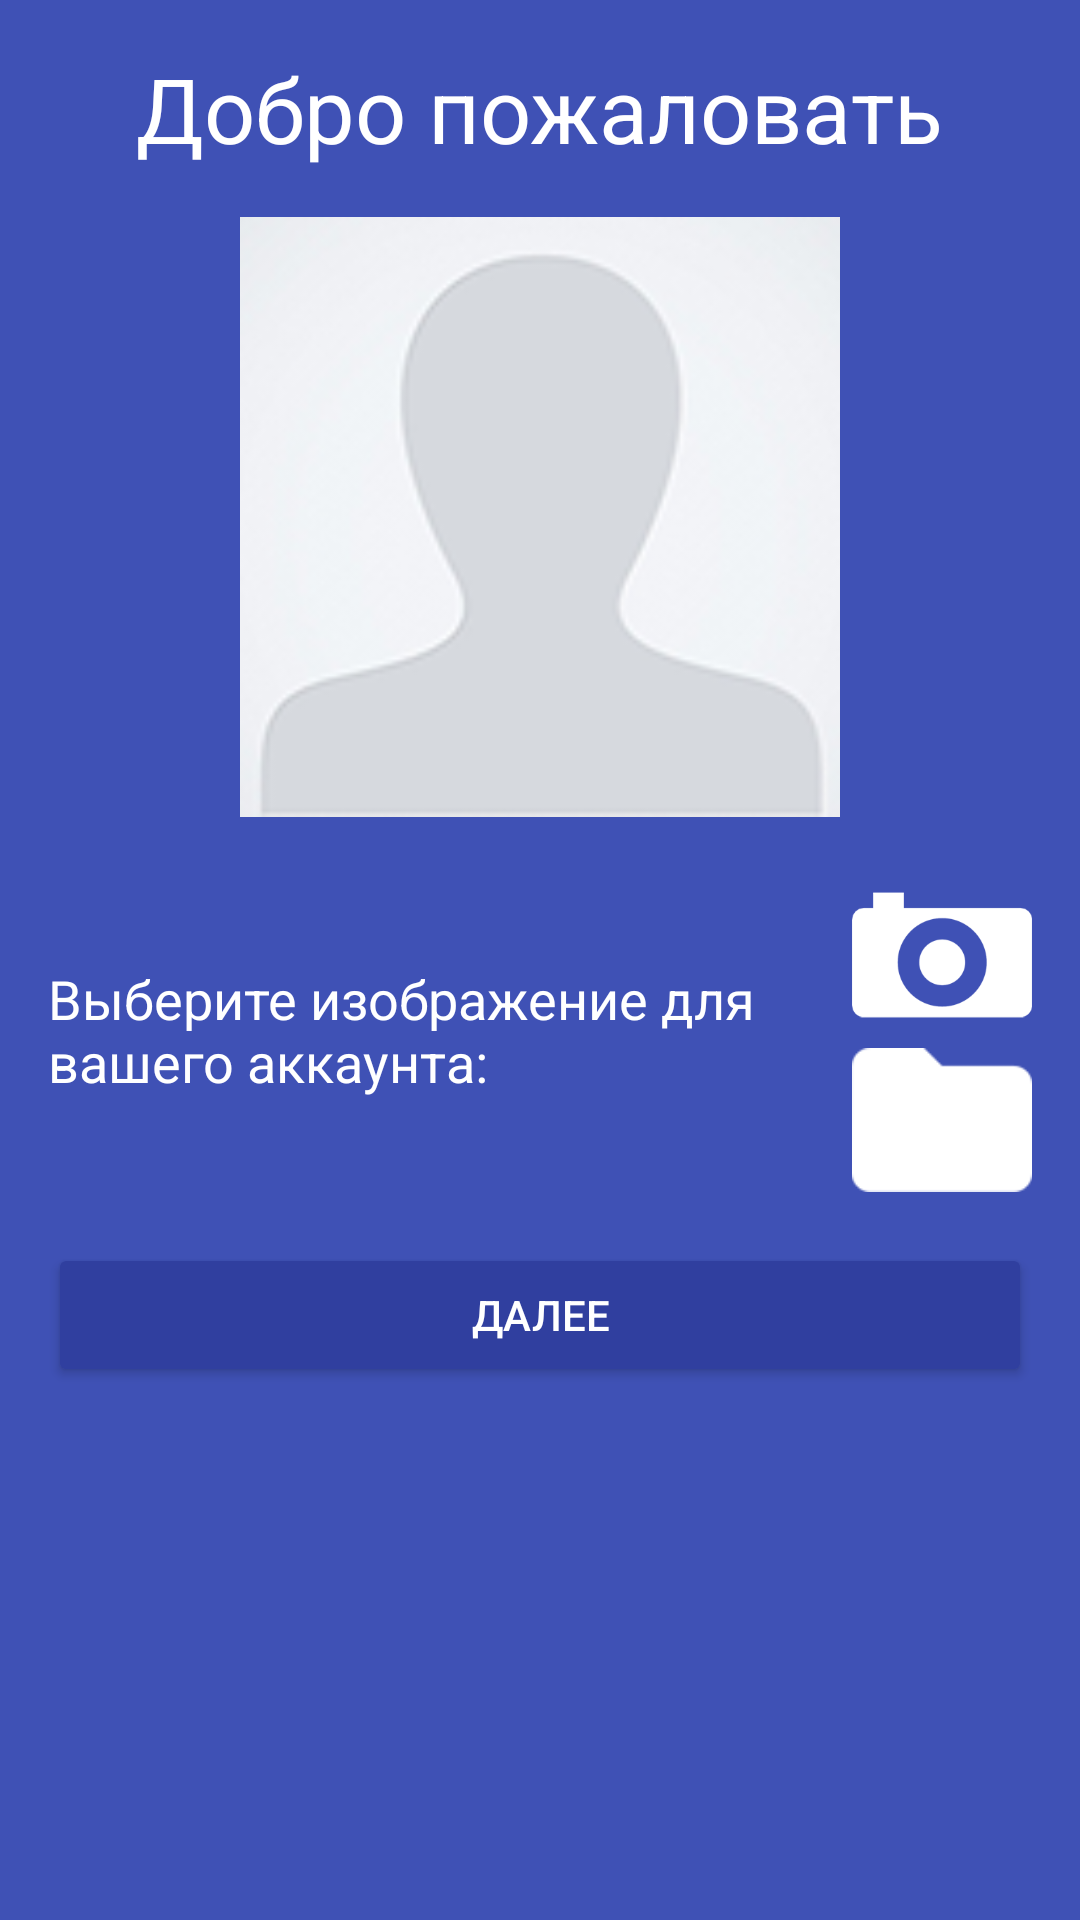

Screen size 1080px×1920px. Icon name, then its center in pixels as (x,y):
folder: (942,1120)
